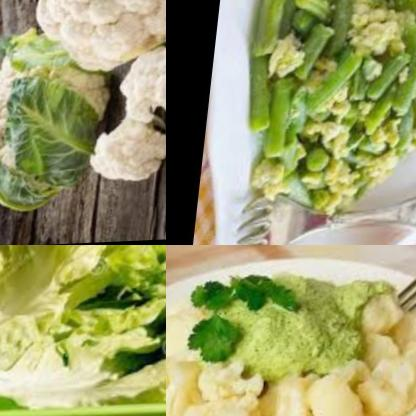cayliflower: (0, 35, 129, 168), (23, 0, 166, 78), (196, 363, 406, 416), (368, 281, 416, 416), (89, 114, 166, 188), (166, 300, 212, 416), (112, 44, 166, 135)
fasol: (238, 0, 359, 151), (265, 134, 341, 221), (374, 0, 416, 138)
salad: (0, 245, 166, 412)
